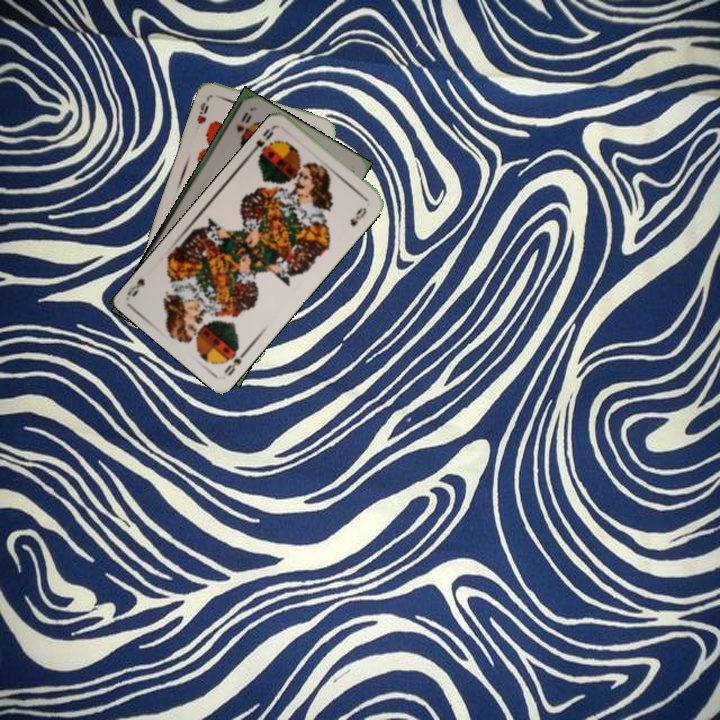H9: (193, 93, 212, 127)
SO: (247, 121, 280, 160), (220, 345, 250, 379), (232, 108, 251, 136)
